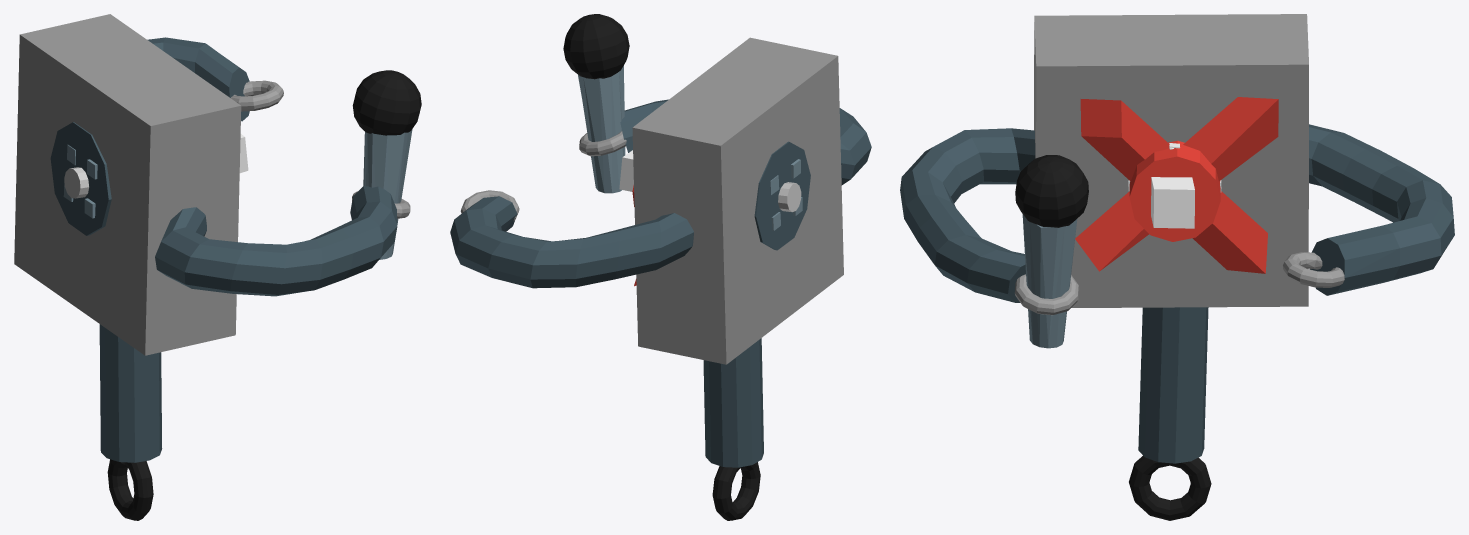
Rendered from Enemy_Therrin.fbx.
3 views of the same model, side by side, from view 1: azimuth 30°, elevation 25°; view 2: azimuth 150°, elevation 25°; view 3: azimuth 270°, elevation 25° (orthographic). The views are drawn at different scales.
Visible parts, largest first — view 1: group_2134615601; view 2: group_2134615601; view 3: group_2134615601.
Part boxes in pixels (box(x1,y1,x2,y2)): group_2134615601: box(14, 14, 421, 520); group_2134615601: box(450, 14, 871, 520); group_2134615601: box(900, 14, 1454, 520).
Bounding box in the file's own units: 168 × 246 × 257.
